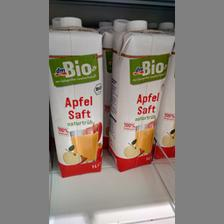Saft: (108, 20, 172, 168), (49, 17, 103, 177)
